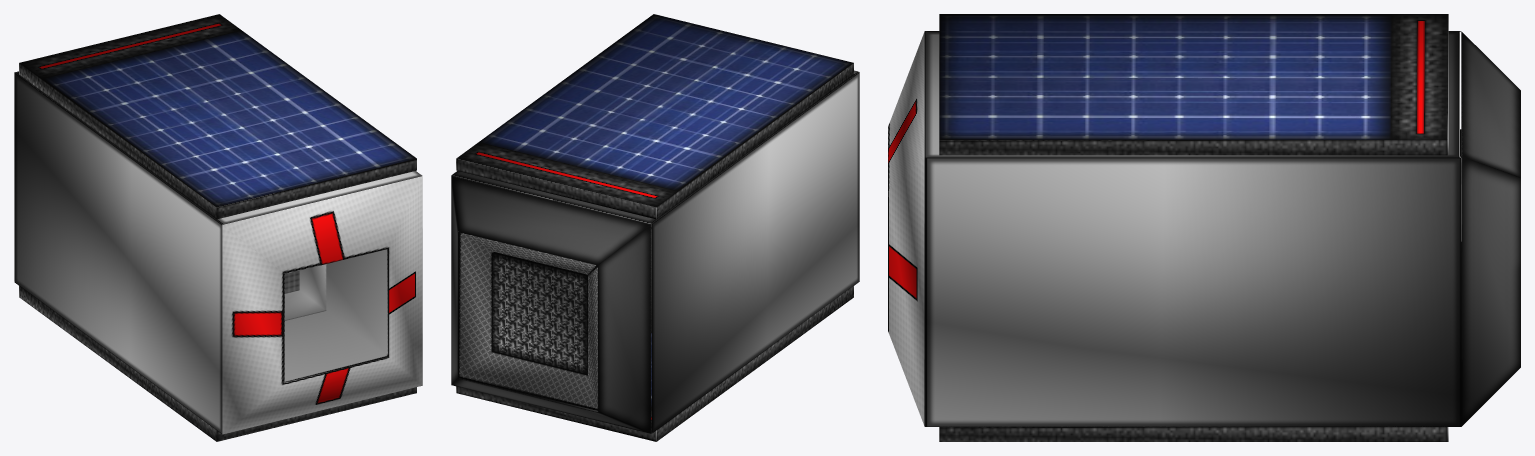
The model's file is catapult.fbx.
The picture shows the model from 3 angles, left to right: view 1: azimuth 30°, elevation 25°; view 2: azimuth 150°, elevation 25°; view 3: azimuth 270°, elevation 25°; orthographic projection. The views are drawn at different scales.
Visible parts, largest first — view 1: Body, LeftWing, RightWing, Edge; view 2: Body, LeftWing, RightWing; view 3: Body, LeftWing, RightWing.
Boxes of the visible parts, x1=… form: Body: x1=14, y1=71, x2=422, y2=434; LeftWing: x1=19, y1=14, x2=416, y2=219; RightWing: x1=19, y1=286, x2=416, y2=441; Edge: x1=285, y1=264, x2=326, y2=320; Body: x1=451, y1=70, x2=859, y2=433; LeftWing: x1=456, y1=14, x2=853, y2=219; RightWing: x1=456, y1=286, x2=853, y2=441; Body: x1=888, y1=31, x2=1520, y2=426; LeftWing: x1=939, y1=14, x2=1448, y2=155; RightWing: x1=939, y1=426, x2=1448, y2=441.
Size of the model in its own units: 1 by 1.12 by 2.12.
3 materials, 3 textured.
